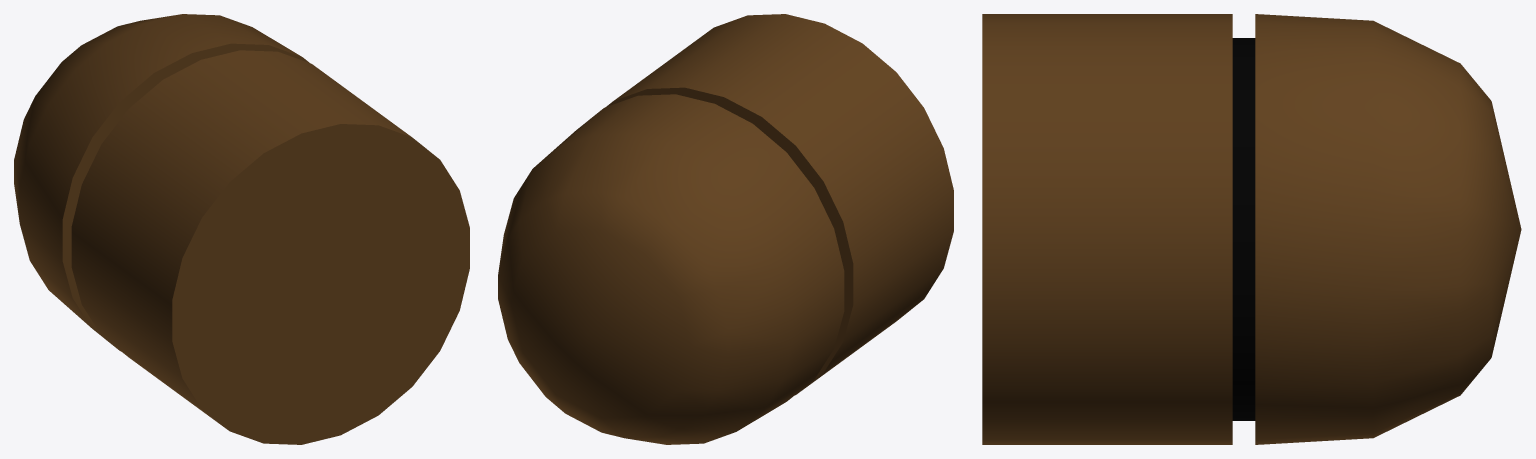
The model's file is bullet.fbx.
3 views of the same model, side by side, from view 1: azimuth 30°, elevation 25°; view 2: azimuth 150°, elevation 25°; view 3: azimuth 270°, elevation 25° (orthographic). The views are drawn at different scales.
Parts seen in each view (by area): view 1: Cylinder; view 2: Cylinder; view 3: Cylinder.
Part boxes in pixels (x1,y1,x2,y2): Cylinder: (14, 14, 469, 444); Cylinder: (498, 14, 953, 444); Cylinder: (982, 14, 1521, 444).
Size of the model in its own units: 189 by 189 by 239.
